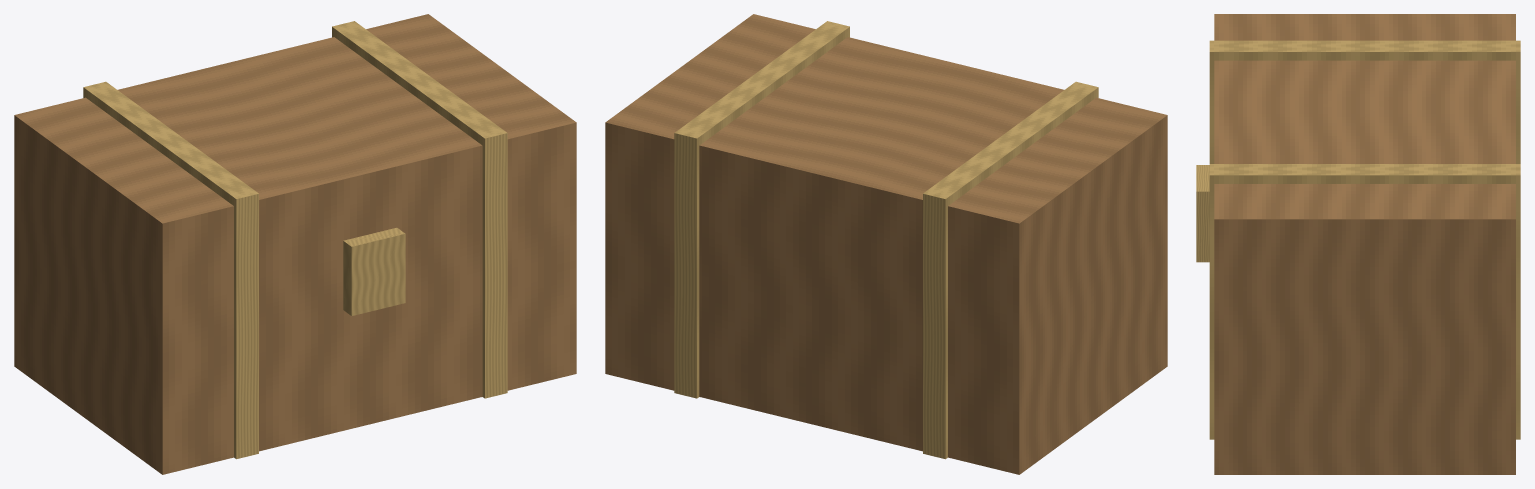
3 renders of one model, left to right at view 1: azimuth 30°, elevation 25°; view 2: azimuth 150°, elevation 25°; view 3: azimuth 270°, elevation 25°, orthographic.
Parts seen in each view (by area): view 1: Schultruhe aus dunklem Holz; view 2: Schultruhe aus dunklem Holz; view 3: Schultruhe aus dunklem Holz.
Boxes of the visible parts, x1,y1,x2,y2 form: Schultruhe aus dunklem Holz: [14, 14, 576, 474]; Schultruhe aus dunklem Holz: [605, 14, 1167, 474]; Schultruhe aus dunklem Holz: [1196, 14, 1520, 474].
Bounding box in the file's own units: 1 × 0.6 × 0.6675.
2 materials, 2 textured.
